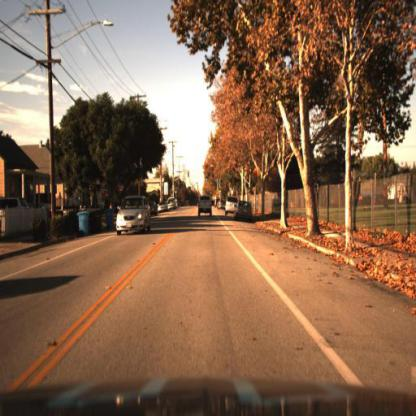car: (116, 191, 151, 241), (113, 194, 154, 236), (195, 191, 215, 219), (234, 199, 255, 222), (224, 197, 241, 220), (238, 201, 256, 220), (158, 199, 174, 218)
